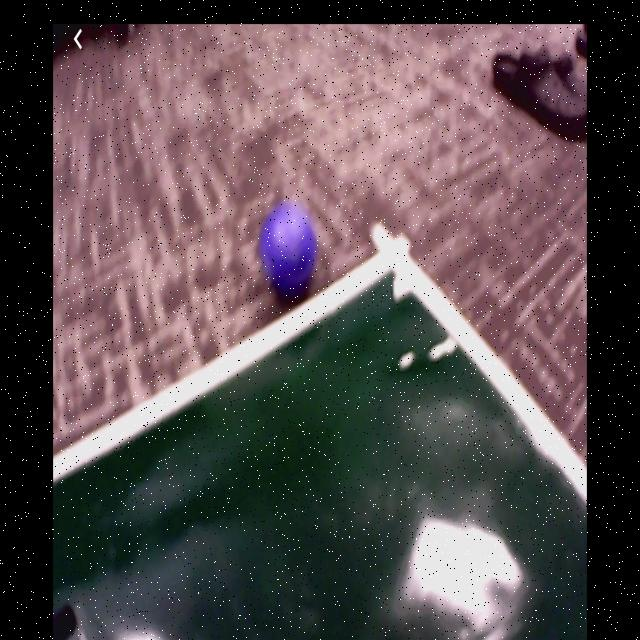ball: (263, 211, 316, 291)
